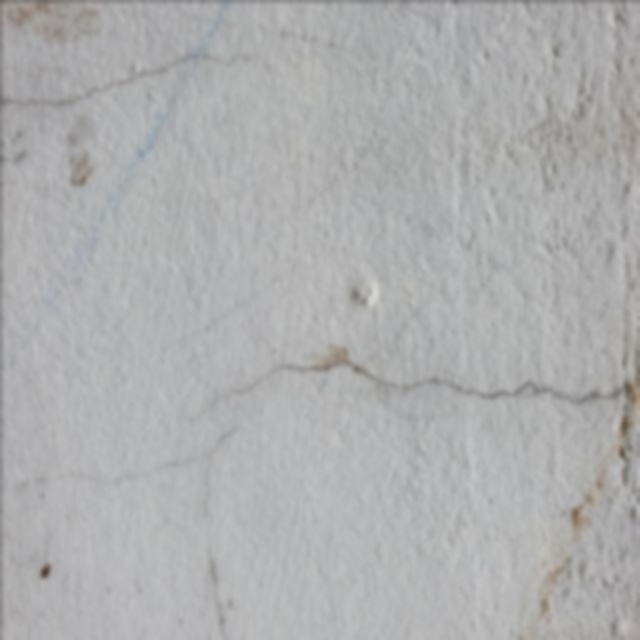SurfaceCrack: (0, 319, 639, 633)
